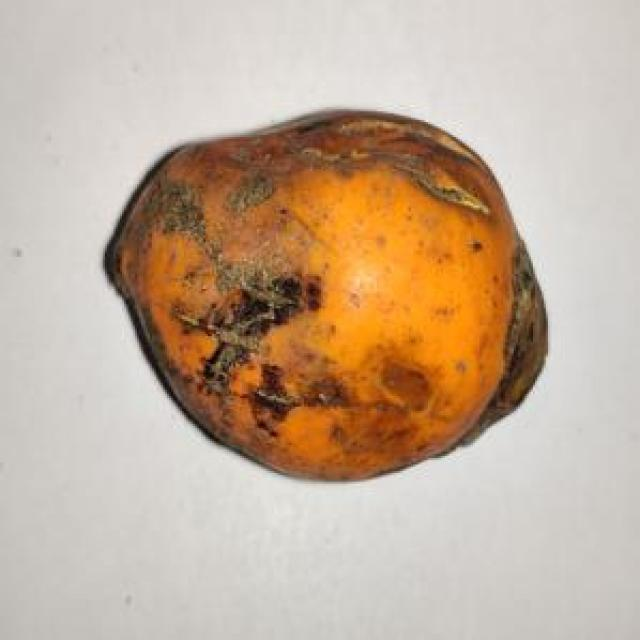damaged: (107, 111, 544, 477)
